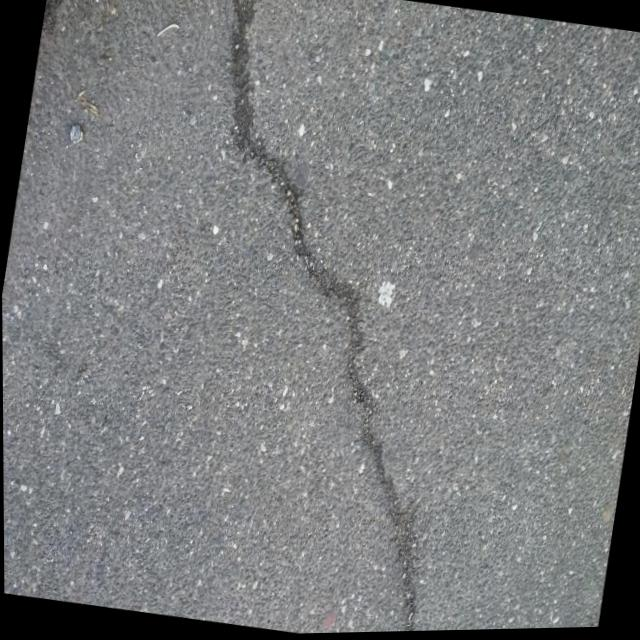Crack: (123, 0, 515, 638)
